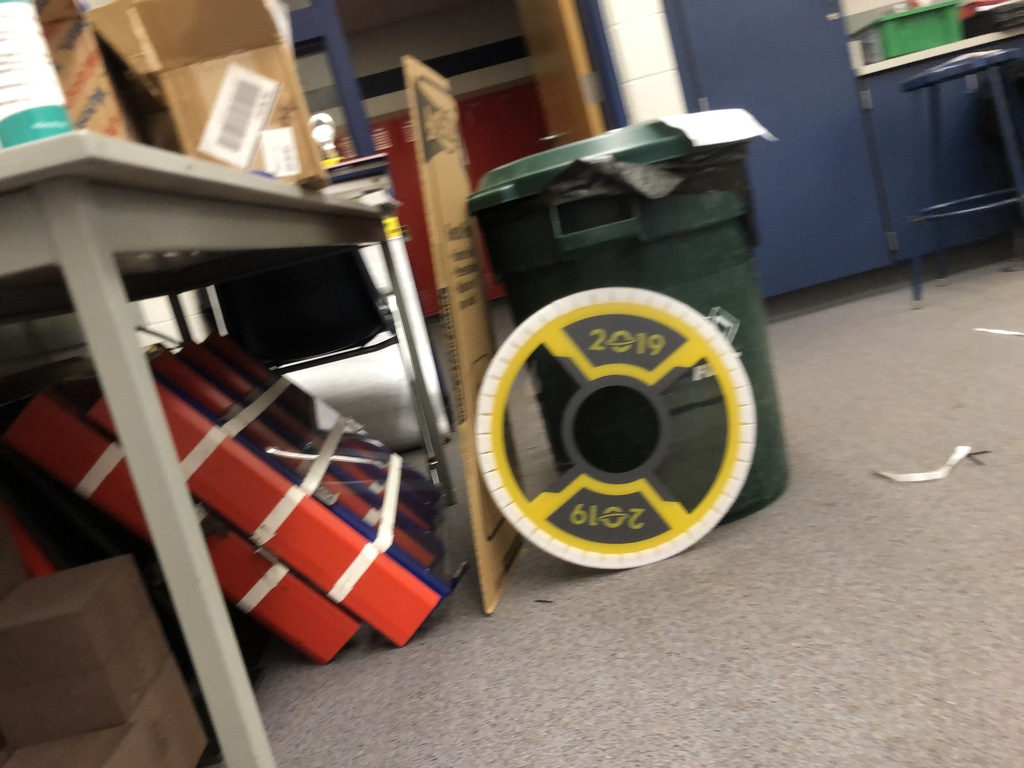hatch_panel: (473, 273, 760, 564)
